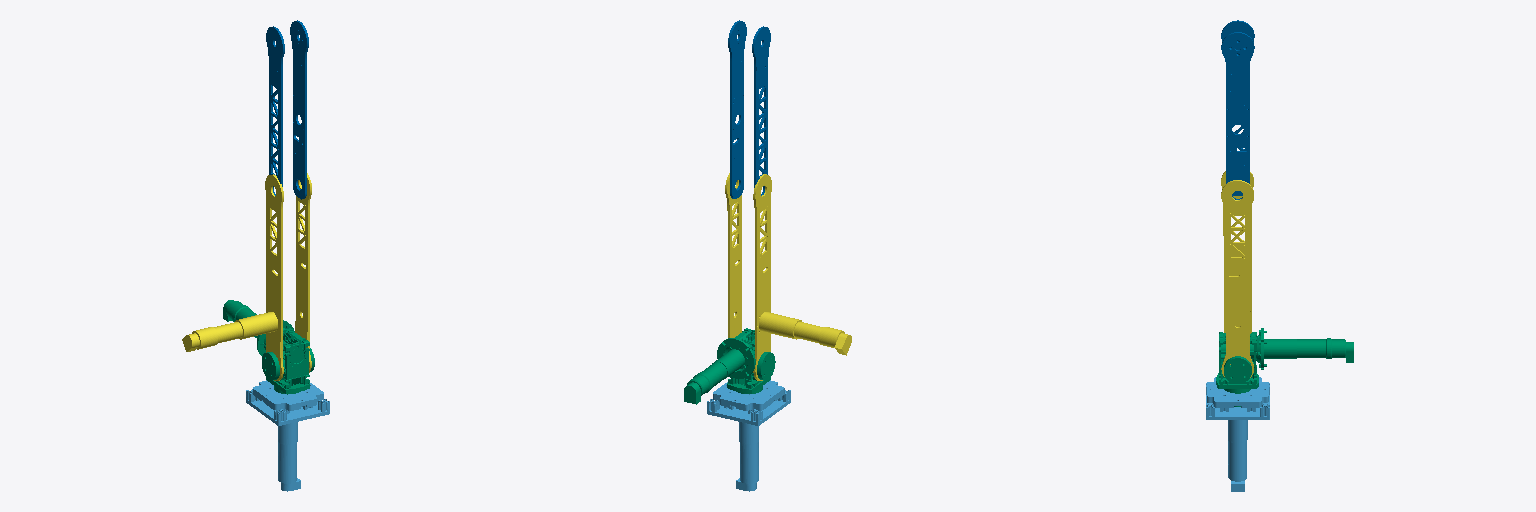
URDF robot description (theia_arm):
<?xml version="1.0" ?>

<robot name="theia_arm">
  <link name="base_link" />

  <joint name="fixed_base" type="fixed">
    <parent link="base_link"/>
    <child link="arm_base"/>
    <origin rpy="0 0 0" xyz="0 0 0"/>
  </joint>

  <link name="arm_base">
    <visual>
      <origin rpy="0 0 0" xyz="0 0 0"/>
      <geometry>
        <mesh filename="package://theia_visualization/model/stl_files/arm_base.stl" scale="0.01 0.01 0.01"/>
      </geometry>
    </visual>
  </link>

  <joint name="joint0" type="continuous">
    <parent link="arm_base"/>
    <child link="link0"/>
    <axis xyz = "0 0 1" />
    <origin rpy="0 0 0" xyz="0 0 0"/>
  </joint>

  <link name="link0">
    <visual>
      <origin rpy="0 0 -3.1415" xyz="0 0 0.35"/>
      <geometry>
        <mesh filename="package://theia_visualization/model/stl_files/link0.stl" scale="0.01 0.01 0.01"/>
      </geometry>
    </visual>
  </link>

  <joint name="joint1" type="continuous">
    <parent link="link0"/>
    <child link="link1"/>
    <axis xyz = "1 0 0" />
    <origin rpy="0 0 0" xyz="0 0 1"/>
  </joint>

  <link name="link1">
    <visual>
      <origin rpy="-0.8 0 0" xyz="0 0 0"/>
      <geometry>
        <mesh filename="package://theia_visualization/model/stl_files/link1.stl" scale="0.01 0.01 0.01"/>
      </geometry>
    </visual>
  </link>

  <joint name="joint2" type="continuous">
    <parent link="link1"/>
    <child link="link2"/>
    <axis xyz = "1 0 0" />
    <origin rpy="0 0 0" xyz="0 0 4.0"/>
  </joint>

  <link name="link2">
    <visual>
      <origin rpy="0 0 0" xyz="0 0 0"/>
      <geometry>
        <mesh filename="package://theia_visualization/model/stl_files/link2.stl" scale="0.01 0.01 0.01"/>
      </geometry>
    </visual>
  </link>

  <joint name="joint3" type="continuous">
    <parent link="link2"/>
    <child link="pointlink"/>
    <axis xyz = "1 0 0" />
    <origin rpy="0 0 0" xyz="0 0 3.0"/>
  </joint>

  <link name="pointlink"/>

  <joint name="joint4" type="continuous">
    <parent link="pointlink"/>
    <child link="gripper"/>
    <axis xyz = "0 0 1" />
    <origin rpy="0 0 0" xyz="0 0 0"/>
  </joint>

  <link name="gripper">
    <visual>
      <origin rpy="0 0 0" xyz="0 0 0"/>
      <geometry>
        <mesh filename="package://theia_visualization/model/stl_files/gripper.stl" scale="0.01 0.01 0.01"/>
      </geometry>
    </visual>
  </link>


</robot>

--- What the picture shows (computed from the rendered views, not written in the file) ---
3 views of the same robot in one strip: view 1: azimuth 30°, elevation 25°; view 2: azimuth 150°, elevation 25°; view 3: azimuth 270°, elevation 25° (orthographic).
Model theia_arm with 7 links and 6 joints (5 continuous, 1 fixed), rooted at base_link, posed every joint at zero.
Links seen in each view (by area): view 1: link1, link2, arm_base, link0; view 2: link1, link2, arm_base, link0; view 3: link1, link2, link0, arm_base.
Boxes of the visible links, x1,y1,x2,y2 form: link1: (182, 173, 311, 380); link2: (266, 20, 308, 199); arm_base: (246, 380, 329, 491); link0: (223, 300, 314, 394); link1: (725, 173, 851, 380); link2: (728, 20, 770, 198); arm_base: (707, 380, 790, 491); link0: (684, 328, 775, 404); link1: (1221, 171, 1253, 377); link2: (1221, 20, 1254, 199); link0: (1216, 328, 1353, 406); arm_base: (1206, 377, 1269, 491).
Size in the robot's own frame: 3.03 by 3.12 by 10.68 metres.
Meshes: 5 distinct files referenced, 4 mesh visuals loaded (4 binary STL); not drawn: 1 (reference not matched to a file when rendering).